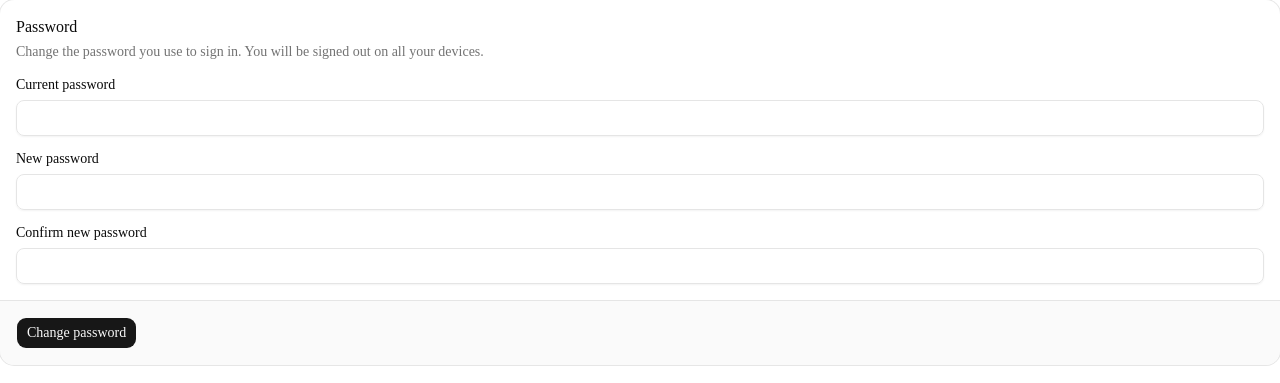
Test: PasswordCard › sends the current and new password, then shows the signed-out panel
Type "s3cret-password" into the password field labelled "Current password". click: (640, 118)
box: [16,100,1264,136]
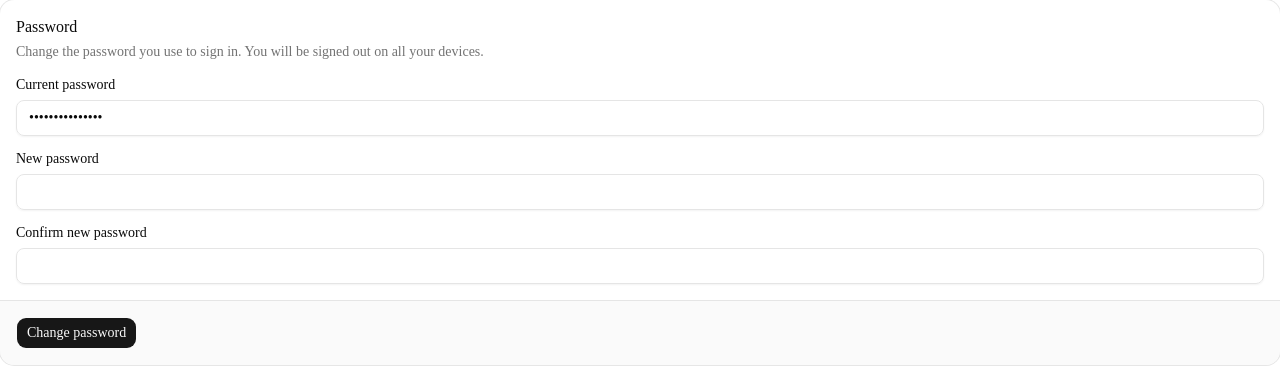
Type "n3w-s3cret-password" into the password field labelled "New password". click: (640, 192)
box: [16,174,1264,210]
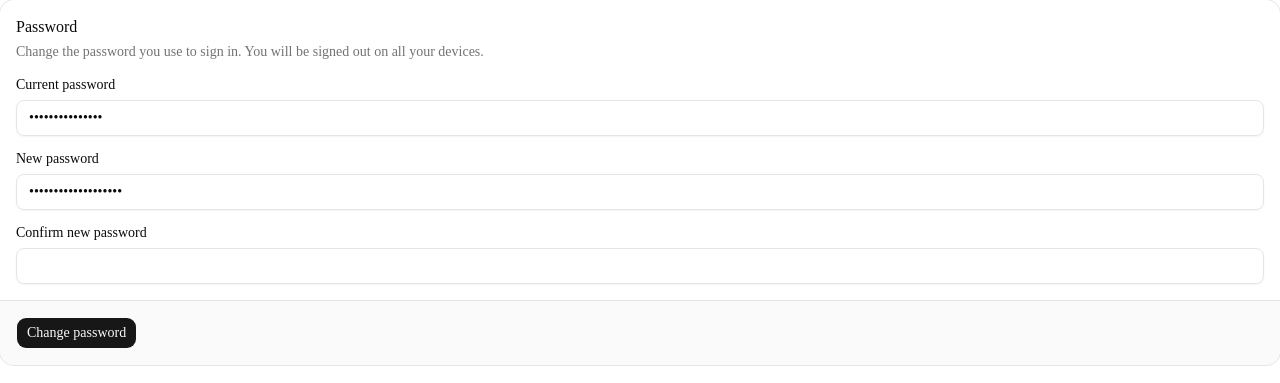
Type "n3w-s3cret-password" into the password field labelled "Confirm new password". click: (640, 266)
box: [16,248,1264,284]
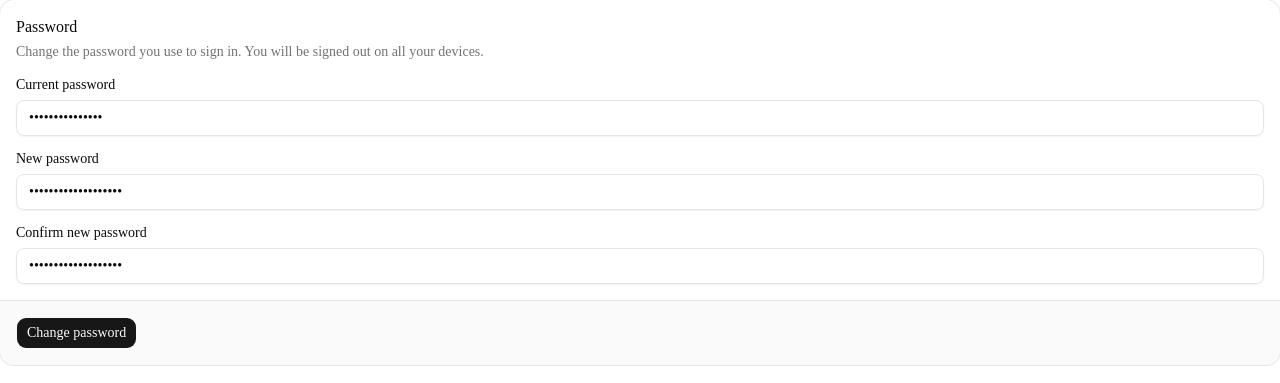
Click the button "Change password". click: (77, 333)
box: [16,317,137,349]
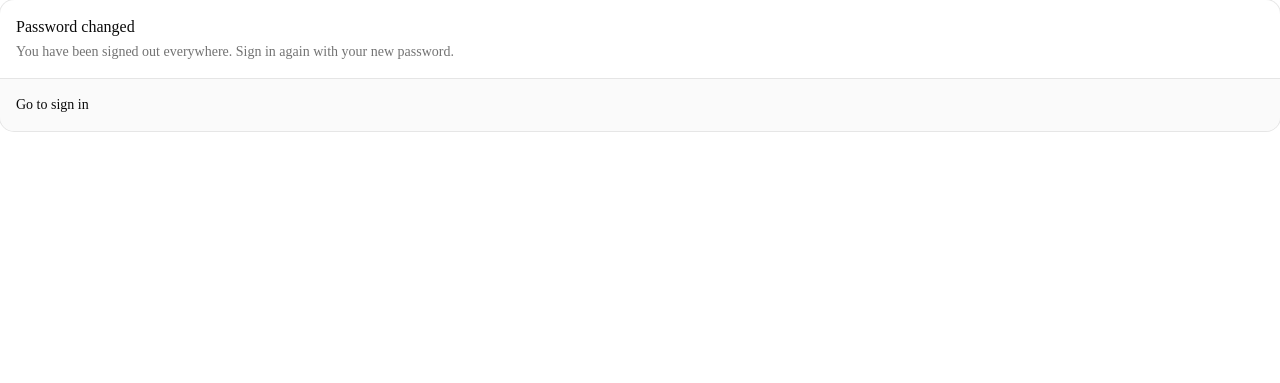
Now the text "Password changed" is shown, box [16,18,135,35]
